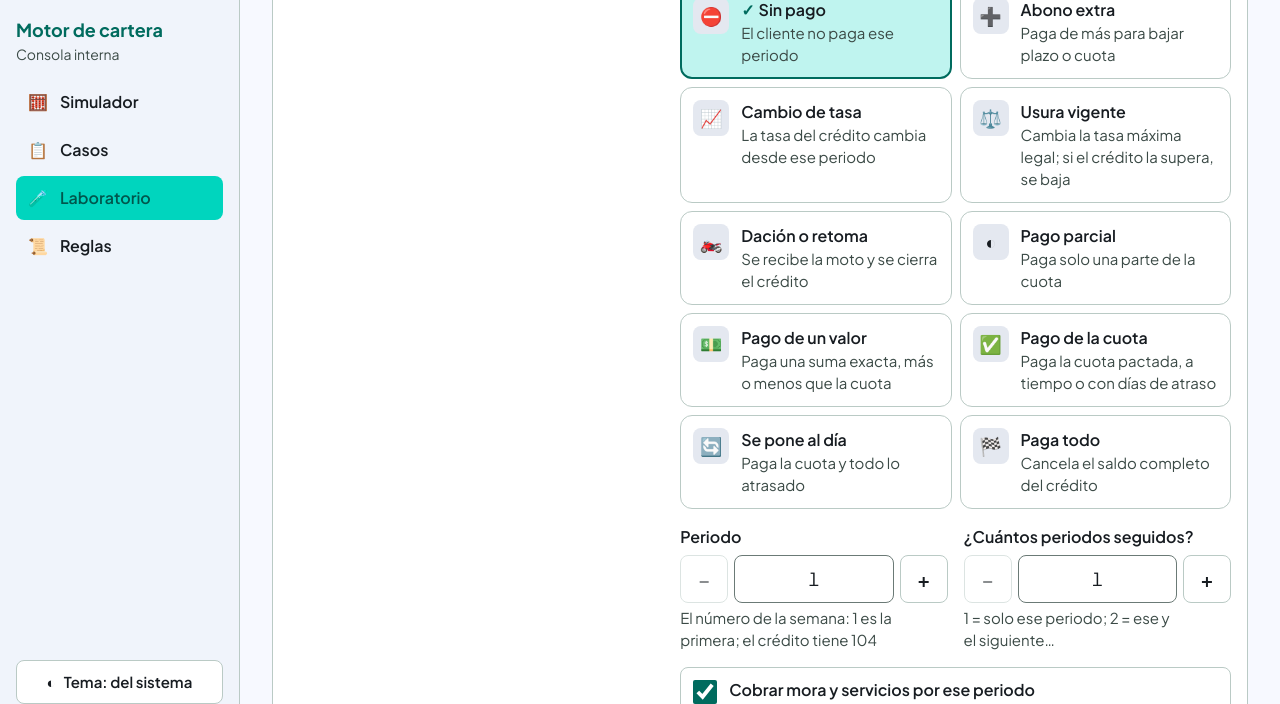
Test: Laboratorio › valida el formulario antes de agregar
This screenshot has width=1280, height=704.
(page scrolled)
Click the radio button labelled "Pago de un valor". click: click(816, 360)
box: top-left (680, 313), bottom-right (952, 407)
(page scrolled)
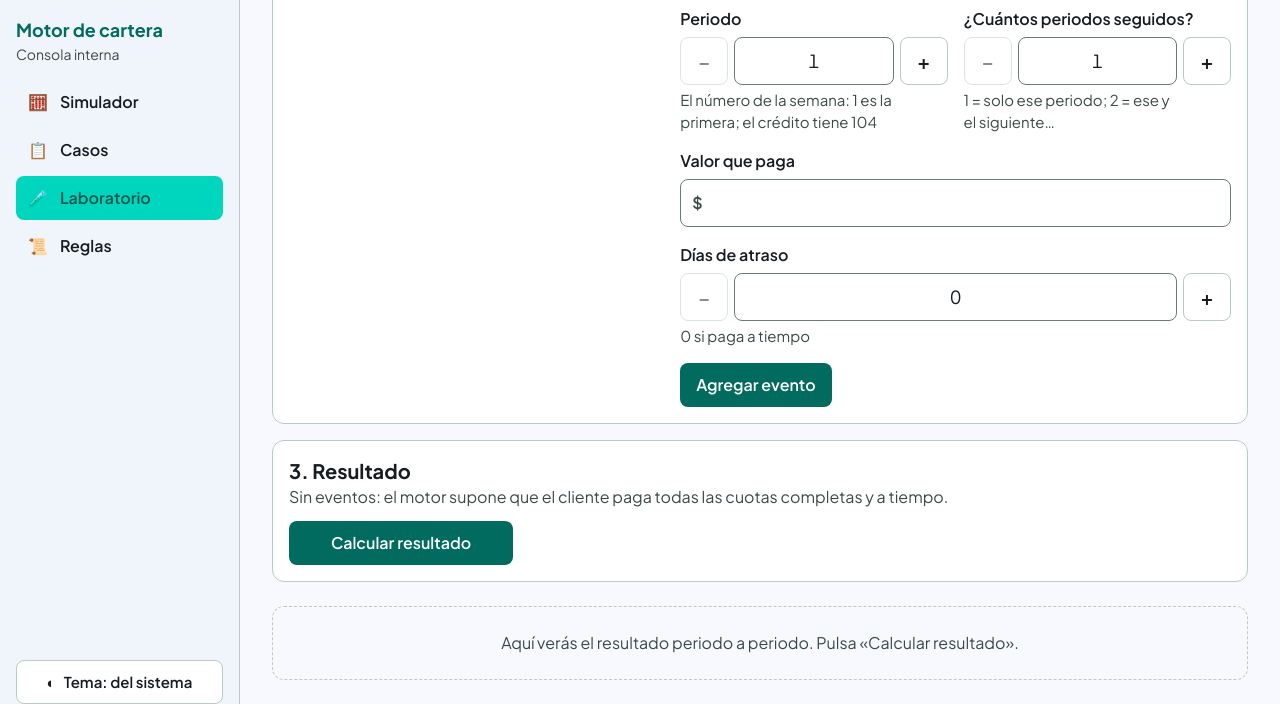
Click the button "Agregar evento". click: click(756, 385)
box: top-left (680, 363), bottom-right (832, 407)
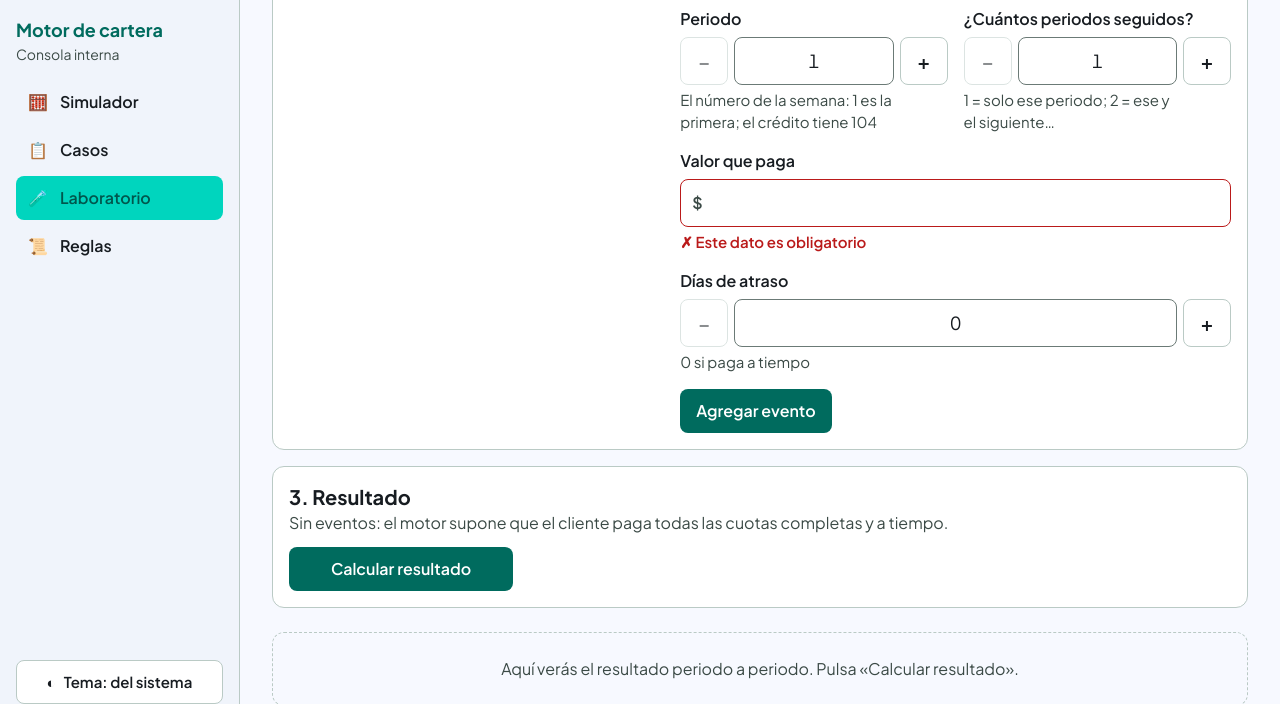
Expected: the text "✗ Este dato es obligatorio" is shown, top-left (680, 232), bottom-right (866, 251)
